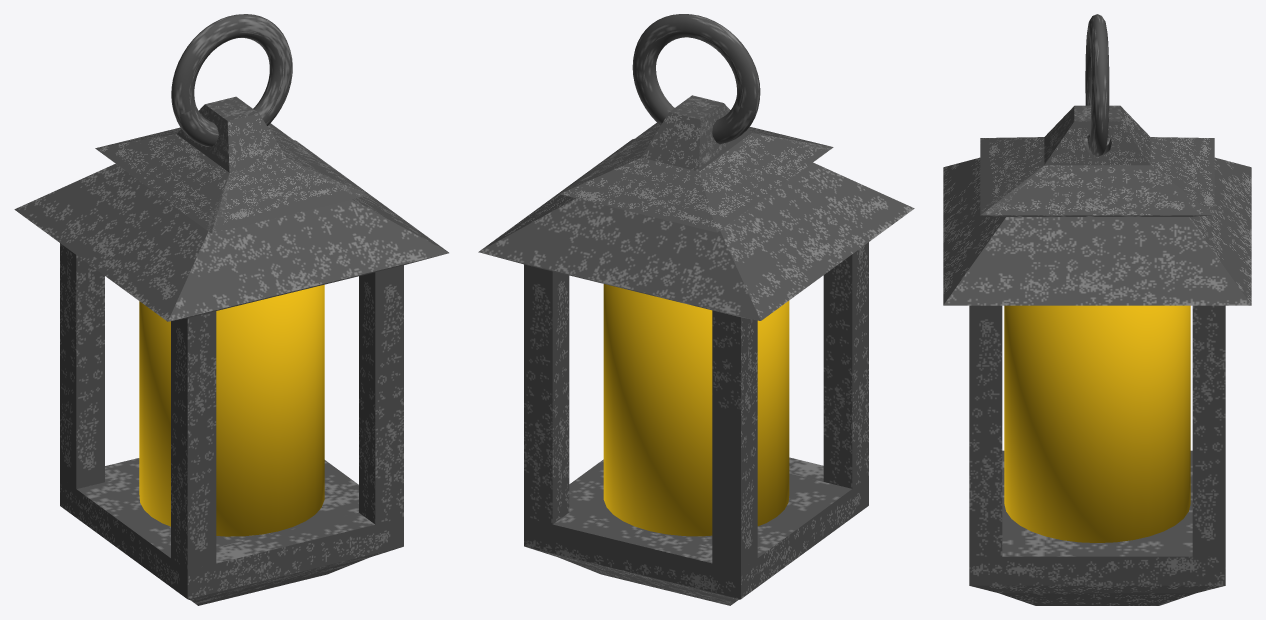
File: lantern.fbx
The picture shows the model from 3 angles, left to right: view 1: azimuth 30°, elevation 25°; view 2: azimuth 150°, elevation 25°; view 3: azimuth 270°, elevation 25°; orthographic projection.
Parts seen in each view (by area): view 1: Cube, Cylinder, Torus; view 2: Cube, Cylinder, Torus; view 3: Cube, Cylinder, Torus.
Boxes of the visible parts, left/top/right/bottom form: Cube: left=14, top=96, right=448, bottom=605; Cylinder: left=139, top=284, right=324, bottom=536; Torus: left=171, top=14, right=292, bottom=147; Cube: left=478, top=95, right=914, bottom=605; Cylinder: left=603, top=284, right=789, bottom=536; Torus: left=632, top=14, right=760, bottom=144; Cube: left=943, top=105, right=1251, bottom=605; Cylinder: left=1004, top=305, right=1190, bottom=542; Torus: left=1085, top=14, right=1109, bottom=156.
Size of the model in its own units: 456 by 865 by 430.
Materials: 1 (1 with a texture image).
